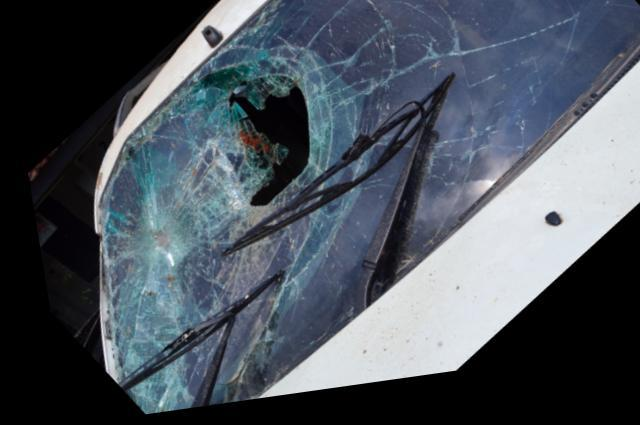glass shatter: (93, 0, 640, 416)
